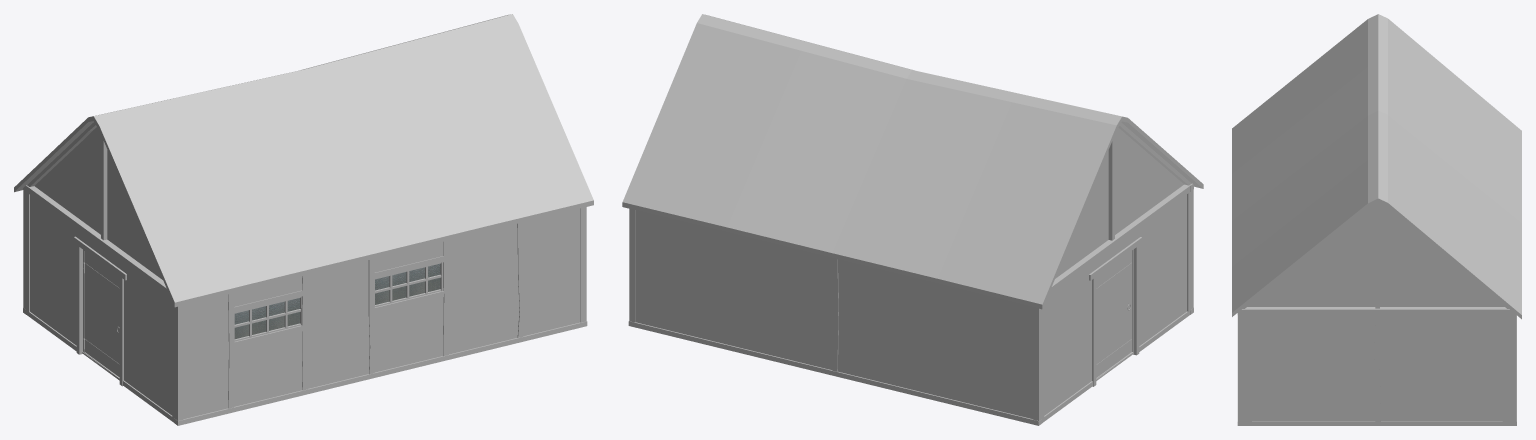
The model's file is House_2.fbx.
3 renders of one model, left to right at view 1: azimuth 30°, elevation 25°; view 2: azimuth 150°, elevation 25°; view 3: azimuth 270°, elevation 25°, orthographic. The views are drawn at different scales.
Parts seen in each view (by area): view 1: Floor_2, Floor_1, Door, Window_2, Window_1; view 2: Floor_2, Floor_1, Door; view 3: Floor_2, Floor_1.
Part boxes in pixels (box(x1,y1,x2,y2)): Floor_2: box(14, 14, 593, 307); Floor_1: box(23, 185, 587, 425); Door: box(83, 251, 119, 376); Window_2: box(374, 262, 443, 307); Window_1: box(234, 296, 301, 341); Floor_2: box(622, 14, 1203, 309); Floor_1: box(628, 183, 1193, 425); Door: box(1096, 251, 1132, 377); Floor_2: box(1232, 14, 1521, 319); Floor_1: box(1237, 307, 1516, 425).
Bounding box in the file's own units: 1057 × 614 × 702.
